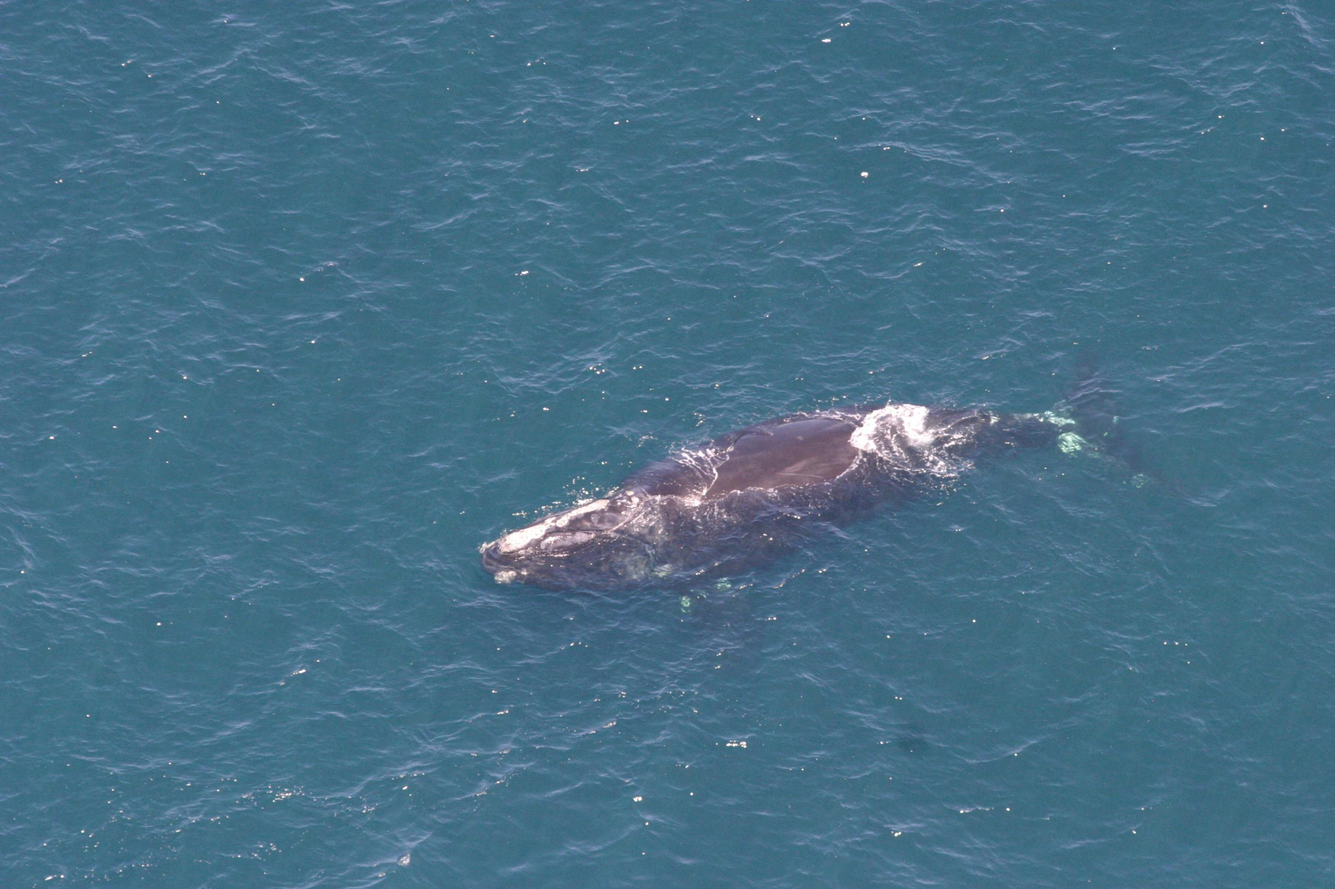whale: (467, 329, 1170, 640)
